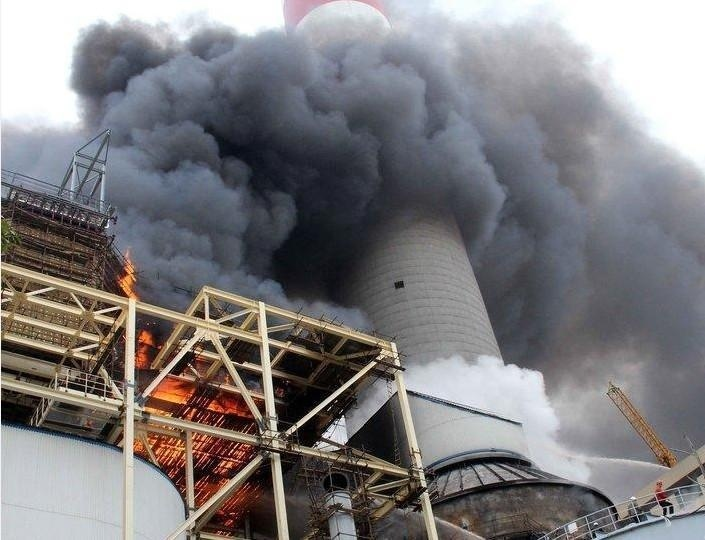fire: (137, 328, 249, 470), (117, 251, 136, 295)
